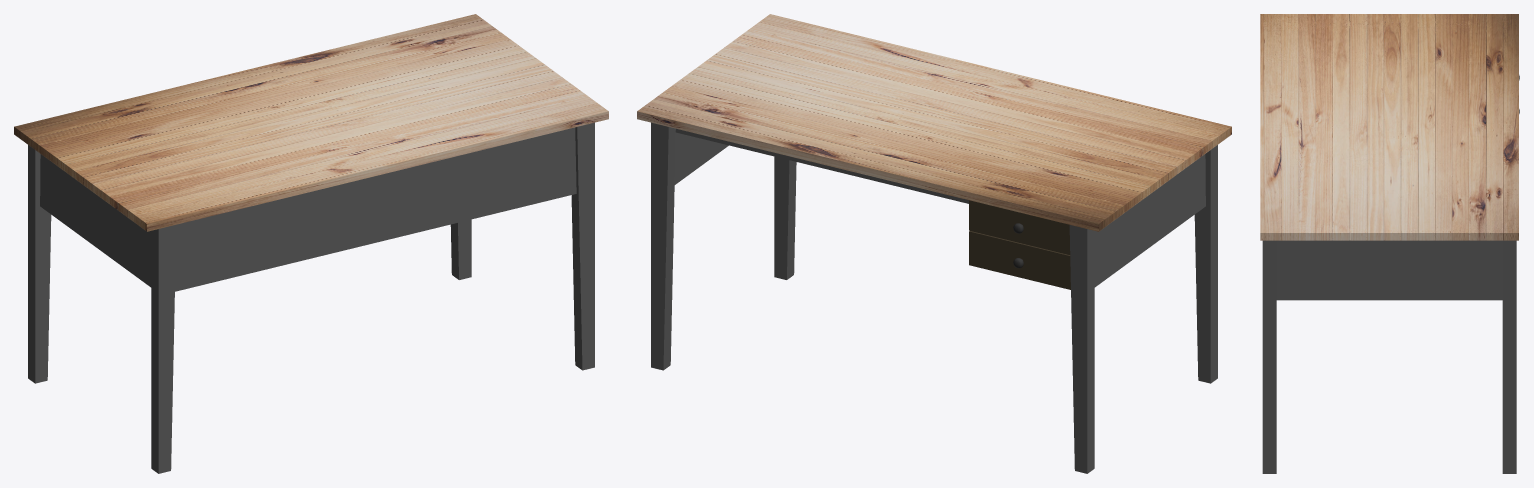
The model's file is regular_desk_1.glb.
3 views of the same model, side by side, from view 1: azimuth 30°, elevation 25°; view 2: azimuth 150°, elevation 25°; view 3: azimuth 270°, elevation 25° (orthographic). The views are drawn at different scales.
Visible parts, largest first — view 1: Plane, Cube; view 2: Plane, Cube, Cube.001; view 3: Plane, Cube.
Part boxes in pixels (x1=…): Plane: x1=14, y1=14, x2=608, y2=231; Cube: x1=28, y1=122, x2=594, y2=473; Plane: x1=637, y1=14, x2=1231, y2=231; Cube: x1=651, y1=122, x2=1217, y2=473; Cube.001: x1=969, y1=200, x2=1070, y2=289; Plane: x1=1260, y1=14, x2=1518, y2=240; Cube: x1=1262, y1=240, x2=1516, y2=473.
Bounding box in the file's own units: 59.86 × 31.45 × 29.94.
4 materials, 1 textured.
